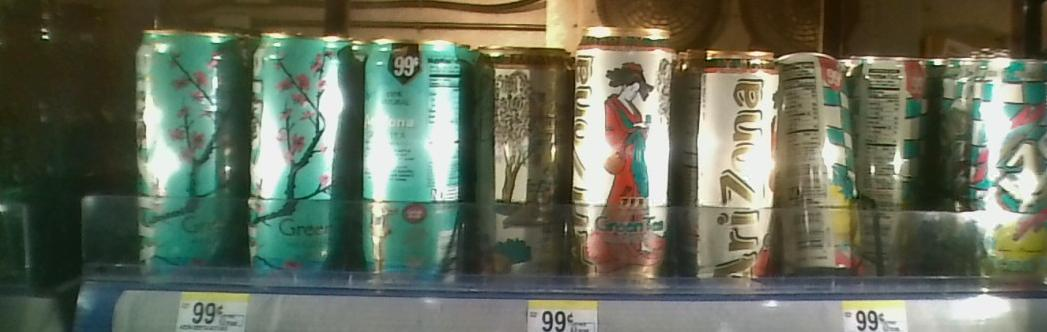bottle: (122, 15, 245, 272), (571, 23, 682, 291), (245, 24, 357, 278), (359, 32, 464, 281), (685, 45, 777, 297), (475, 41, 571, 282), (777, 46, 862, 277), (851, 54, 941, 272), (974, 46, 1047, 280)
